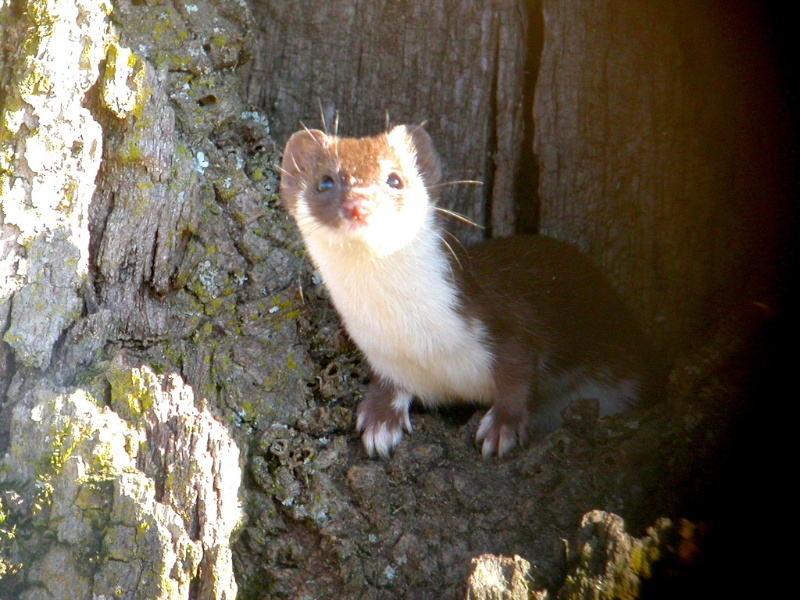minkish: (272, 118, 672, 461)
